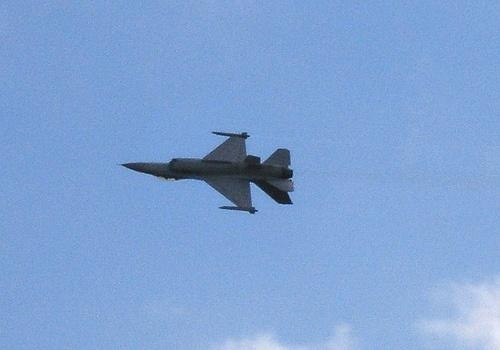aeroplane: (117, 131, 295, 216)
